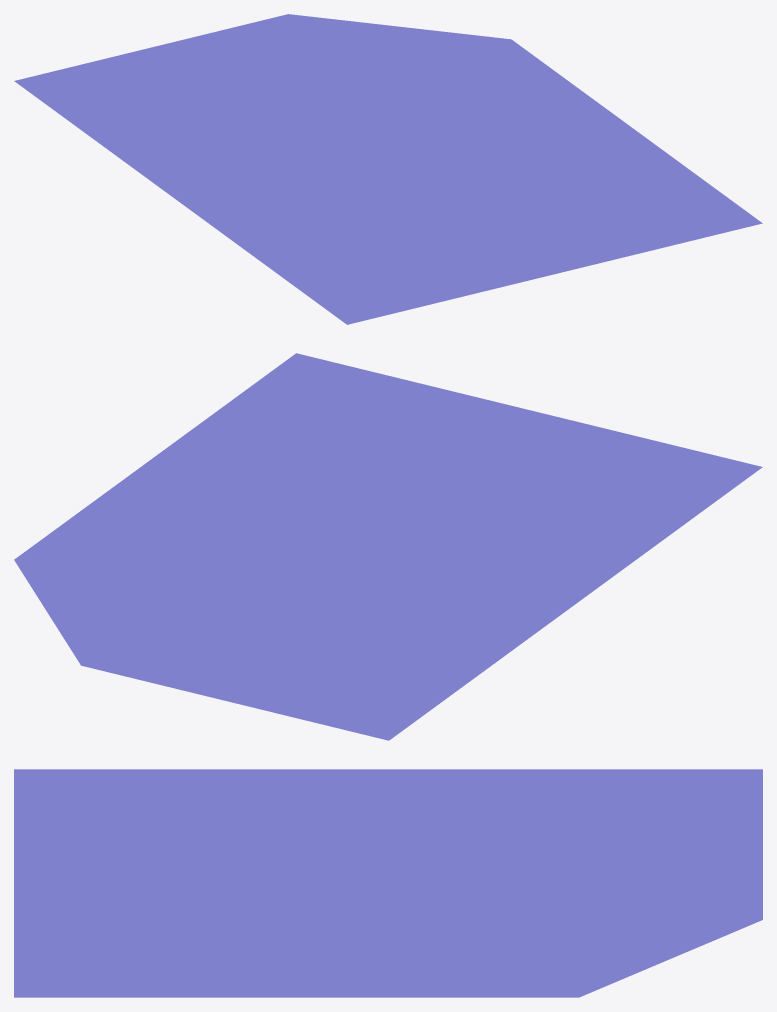
Rendered from DeckeBadezimmer_PLANE.fbx.
The picture shows the model from 3 angles, top to bottom: view 1: azimuth 30°, elevation 25°; view 2: azimuth 150°, elevation 25°; view 3: azimuth 270°, elevation 25°; orthographic projection. The views are drawn at different scales.
Parts seen in each view (by area): view 1: DeckeBad; view 2: DeckeBad; view 3: DeckeBad.
Part boxes in pixels (x1,y1,x2,y2): DeckeBad: [14, 14, 762, 324]; DeckeBad: [14, 353, 762, 740]; DeckeBad: [14, 769, 762, 997].
Size of the model in its own units: 232 by 6.1e-05 by 322.
